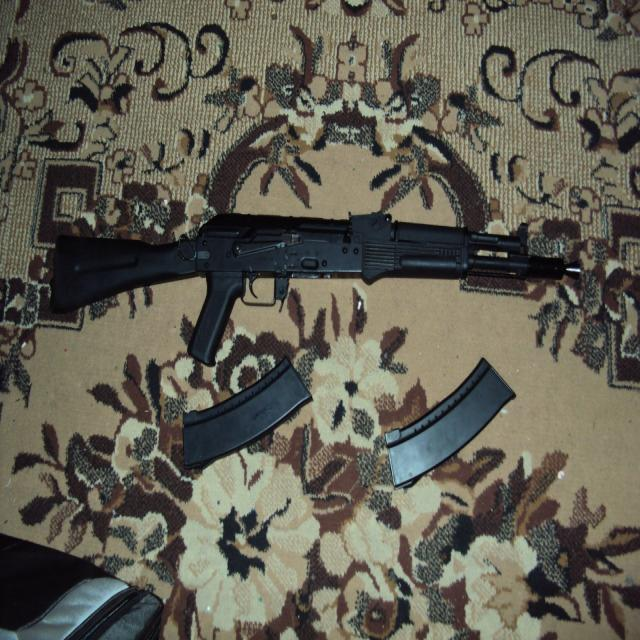firearm: (52, 210, 581, 361)
